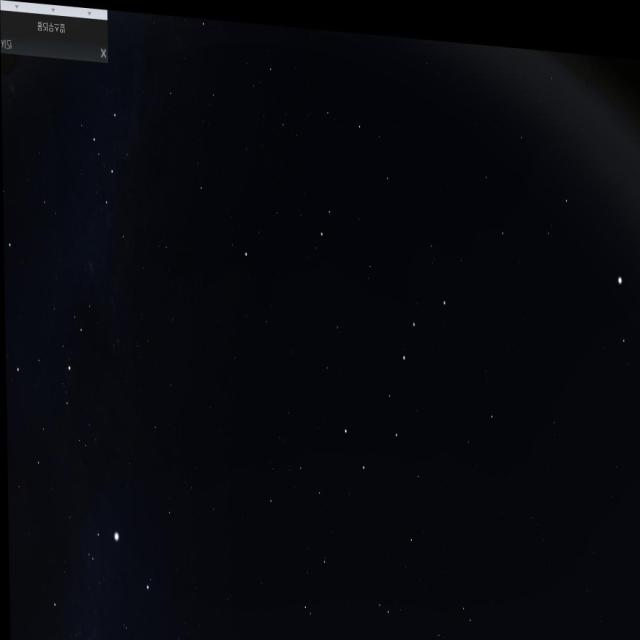cassiopeia: (90, 87, 148, 266)
ursa_major: (338, 266, 450, 477)
